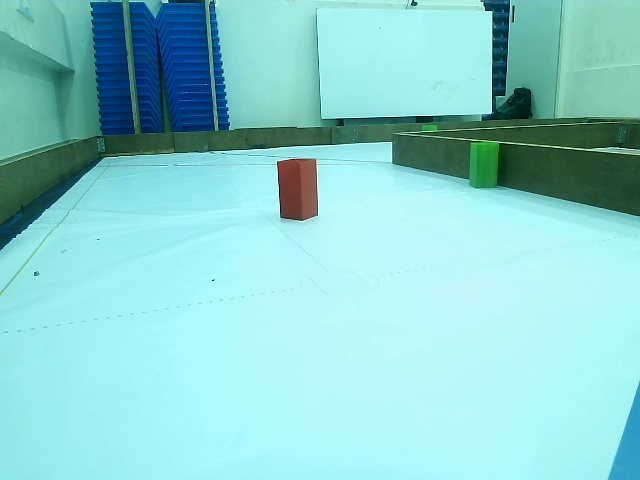red: (278, 160, 318, 218)
